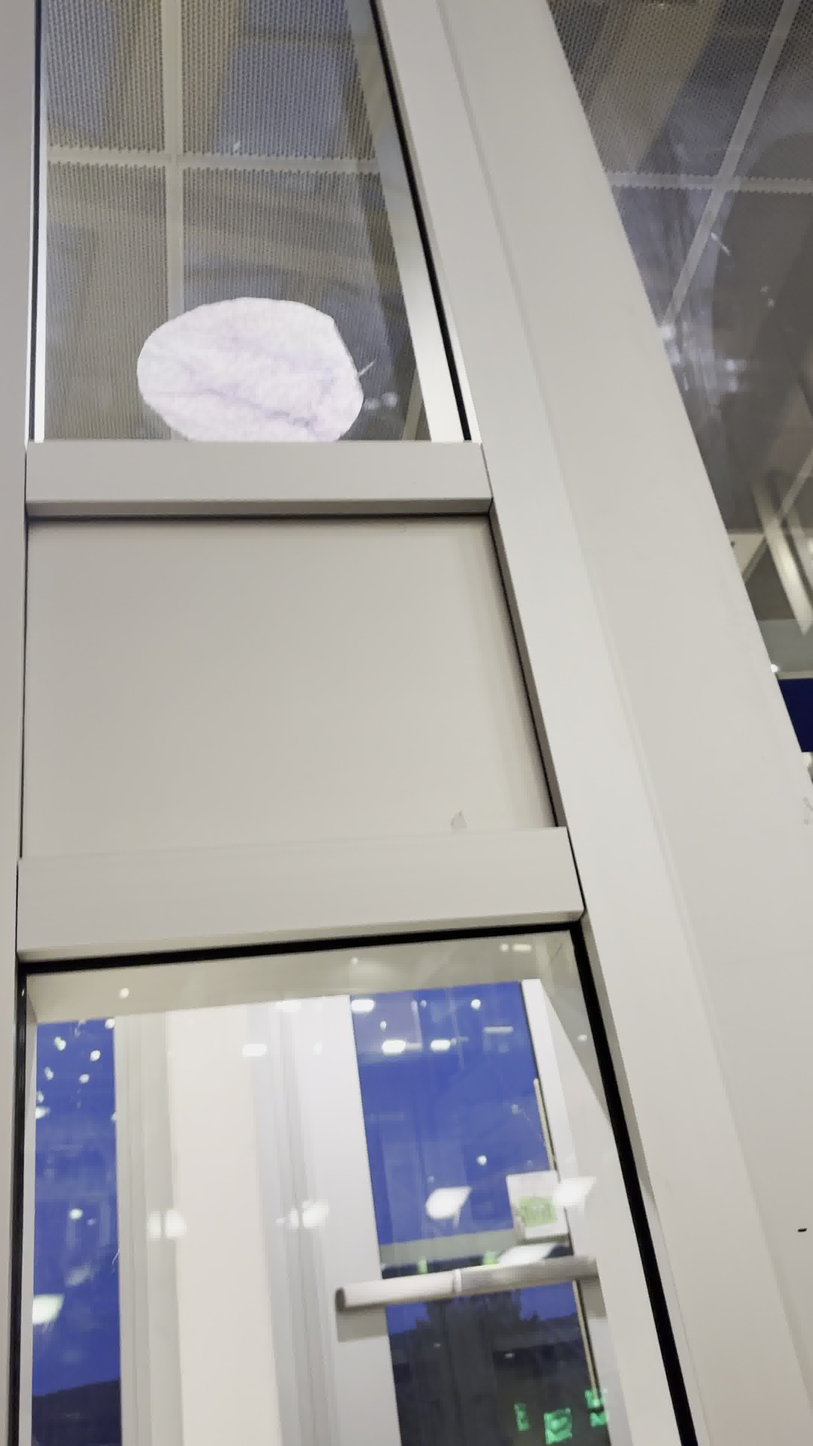Target: (134, 297, 366, 450)
